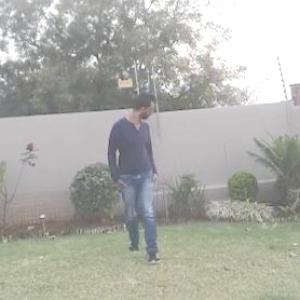follow: (108, 80, 171, 282)
